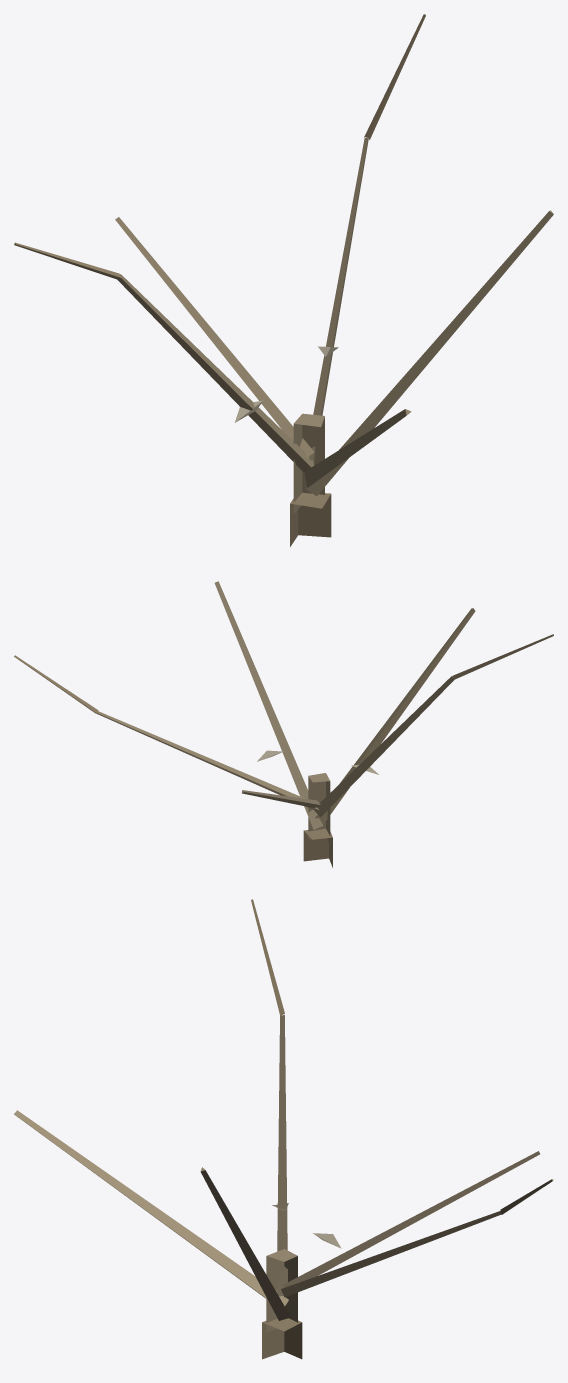
File: shu.masan@withered__winter.glb
3 renders of one model, top to bottom at view 1: azimuth 30°, elevation 25°; view 2: azimuth 150°, elevation 25°; view 3: azimuth 270°, elevation 25°, orthographic. The views are drawn at different scales.
Visible parts, largest first — view 1: shu.masan@withered__winter; view 2: shu.masan@withered__winter; view 3: shu.masan@withered__winter.
Boxes of the visible parts, box(x1,y1,x2,y2) form: shu.masan@withered__winter: box(14, 14, 553, 546); shu.masan@withered__winter: box(14, 581, 553, 867); shu.masan@withered__winter: box(14, 899, 553, 1359).
Bounding box in the file's own units: 7.97 × 5.05 × 7.46.
